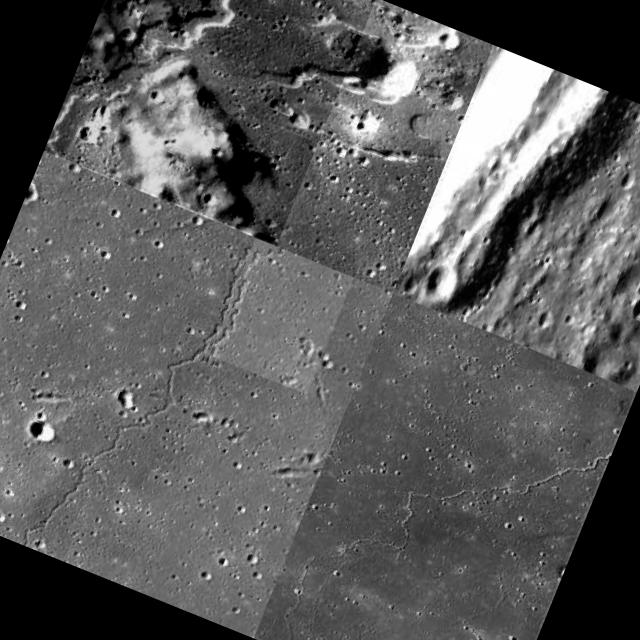rille: (253, 293, 634, 640), (0, 159, 257, 583), (43, 0, 375, 244), (208, 238, 354, 394), (286, 518, 408, 640)
